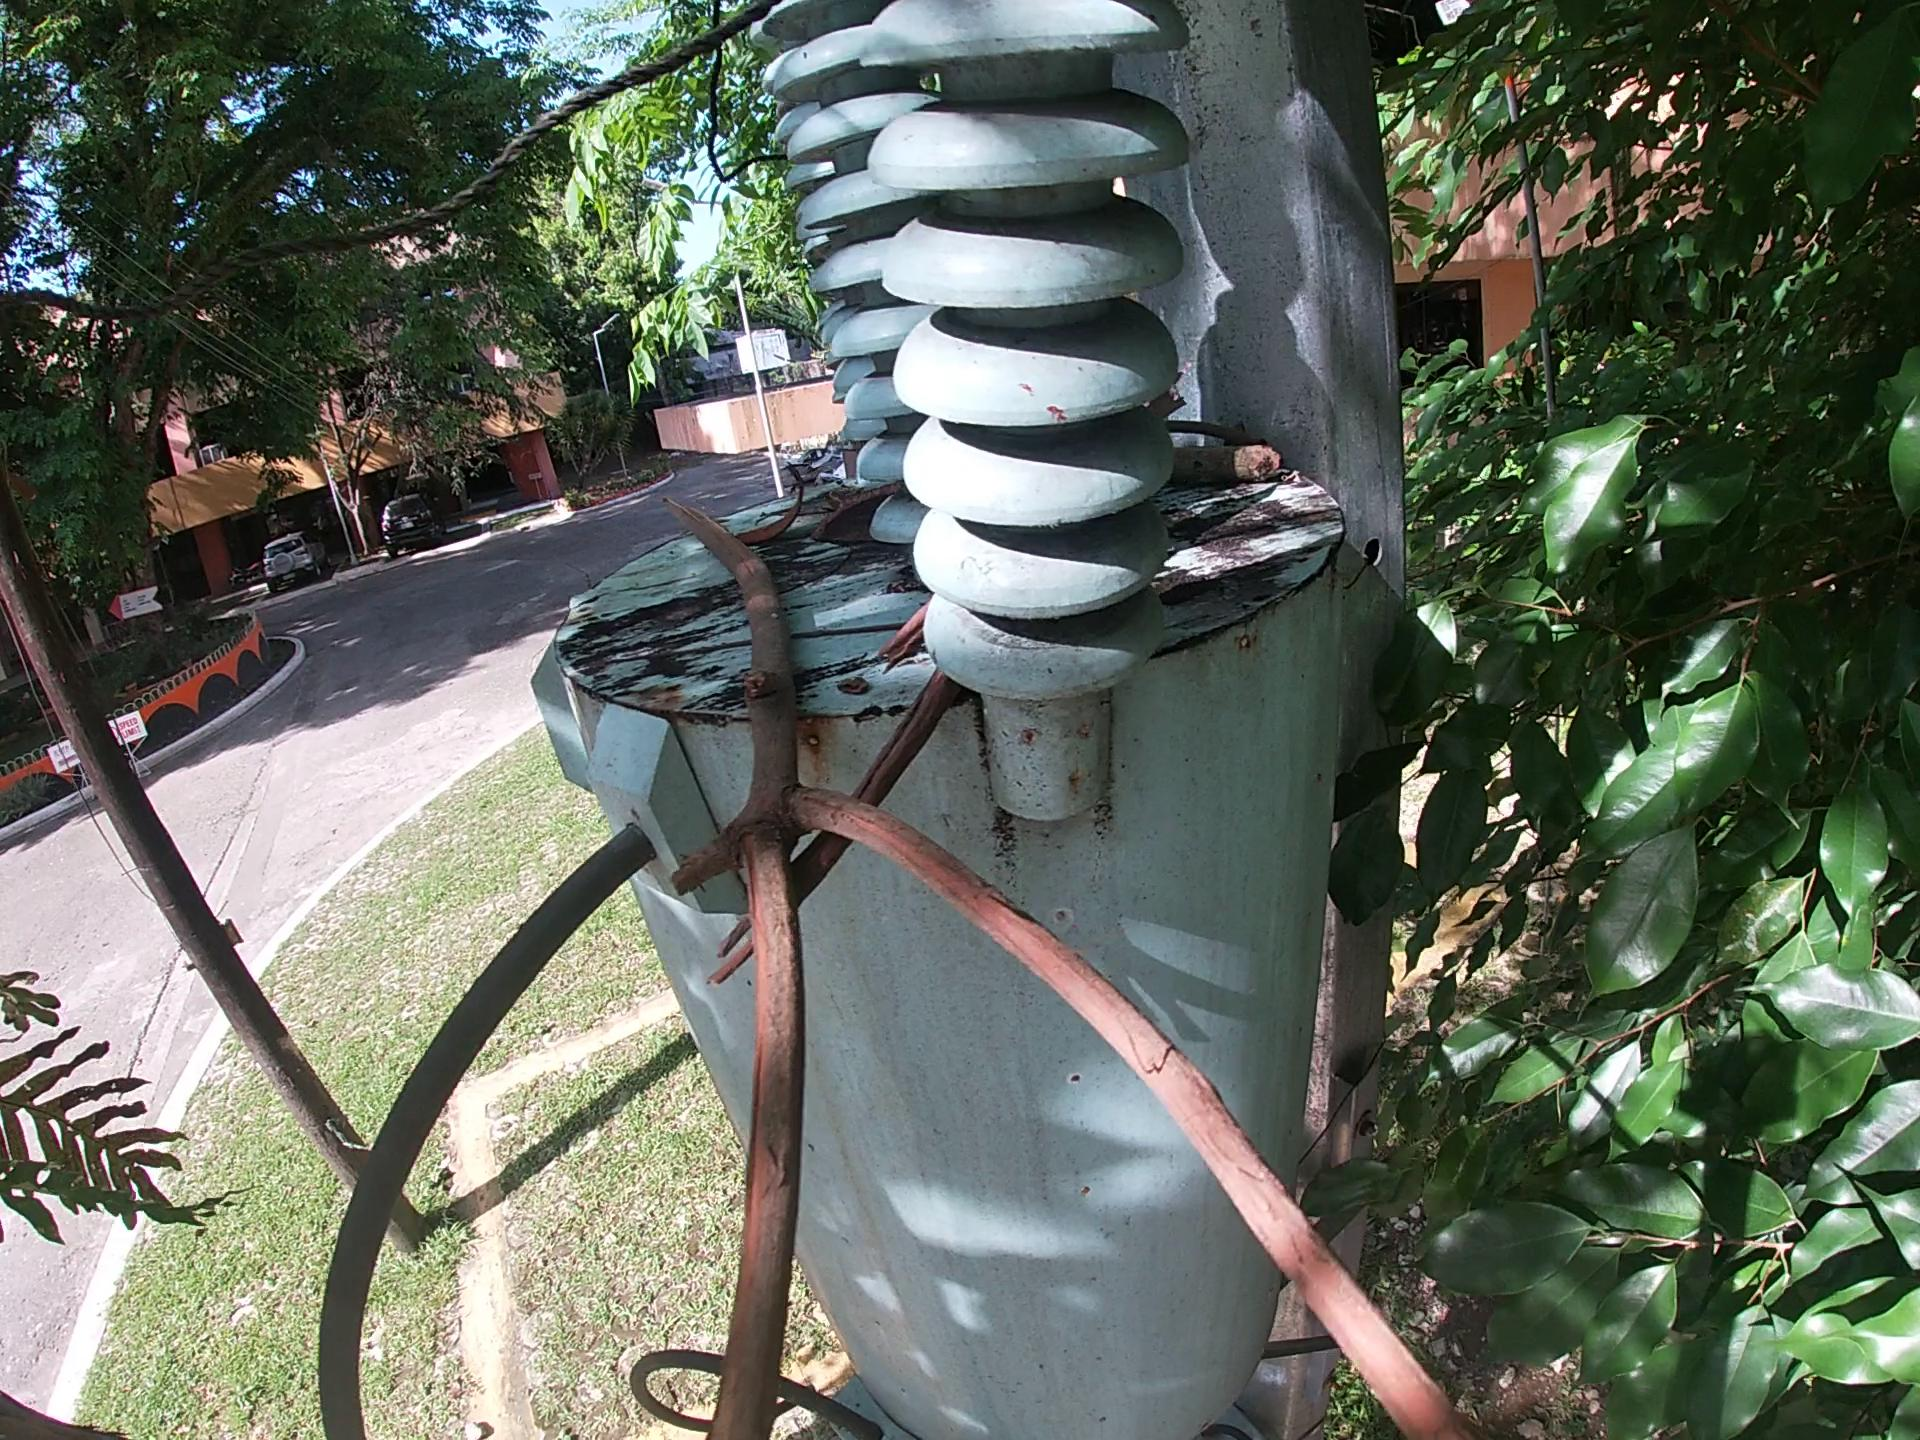mahogany fruit: (816, 487, 913, 558), (735, 466, 810, 538)
tree branch: (649, 504, 1580, 1437), (706, 679, 958, 980), (593, 614, 913, 672), (1161, 442, 1300, 490), (878, 596, 931, 667), (1169, 408, 1258, 440), (1150, 358, 1194, 414)
